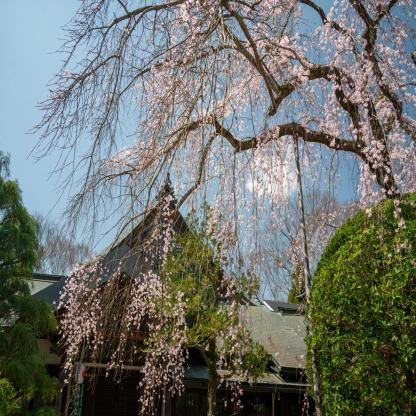ShidareZakura: (25, 0, 416, 416)
